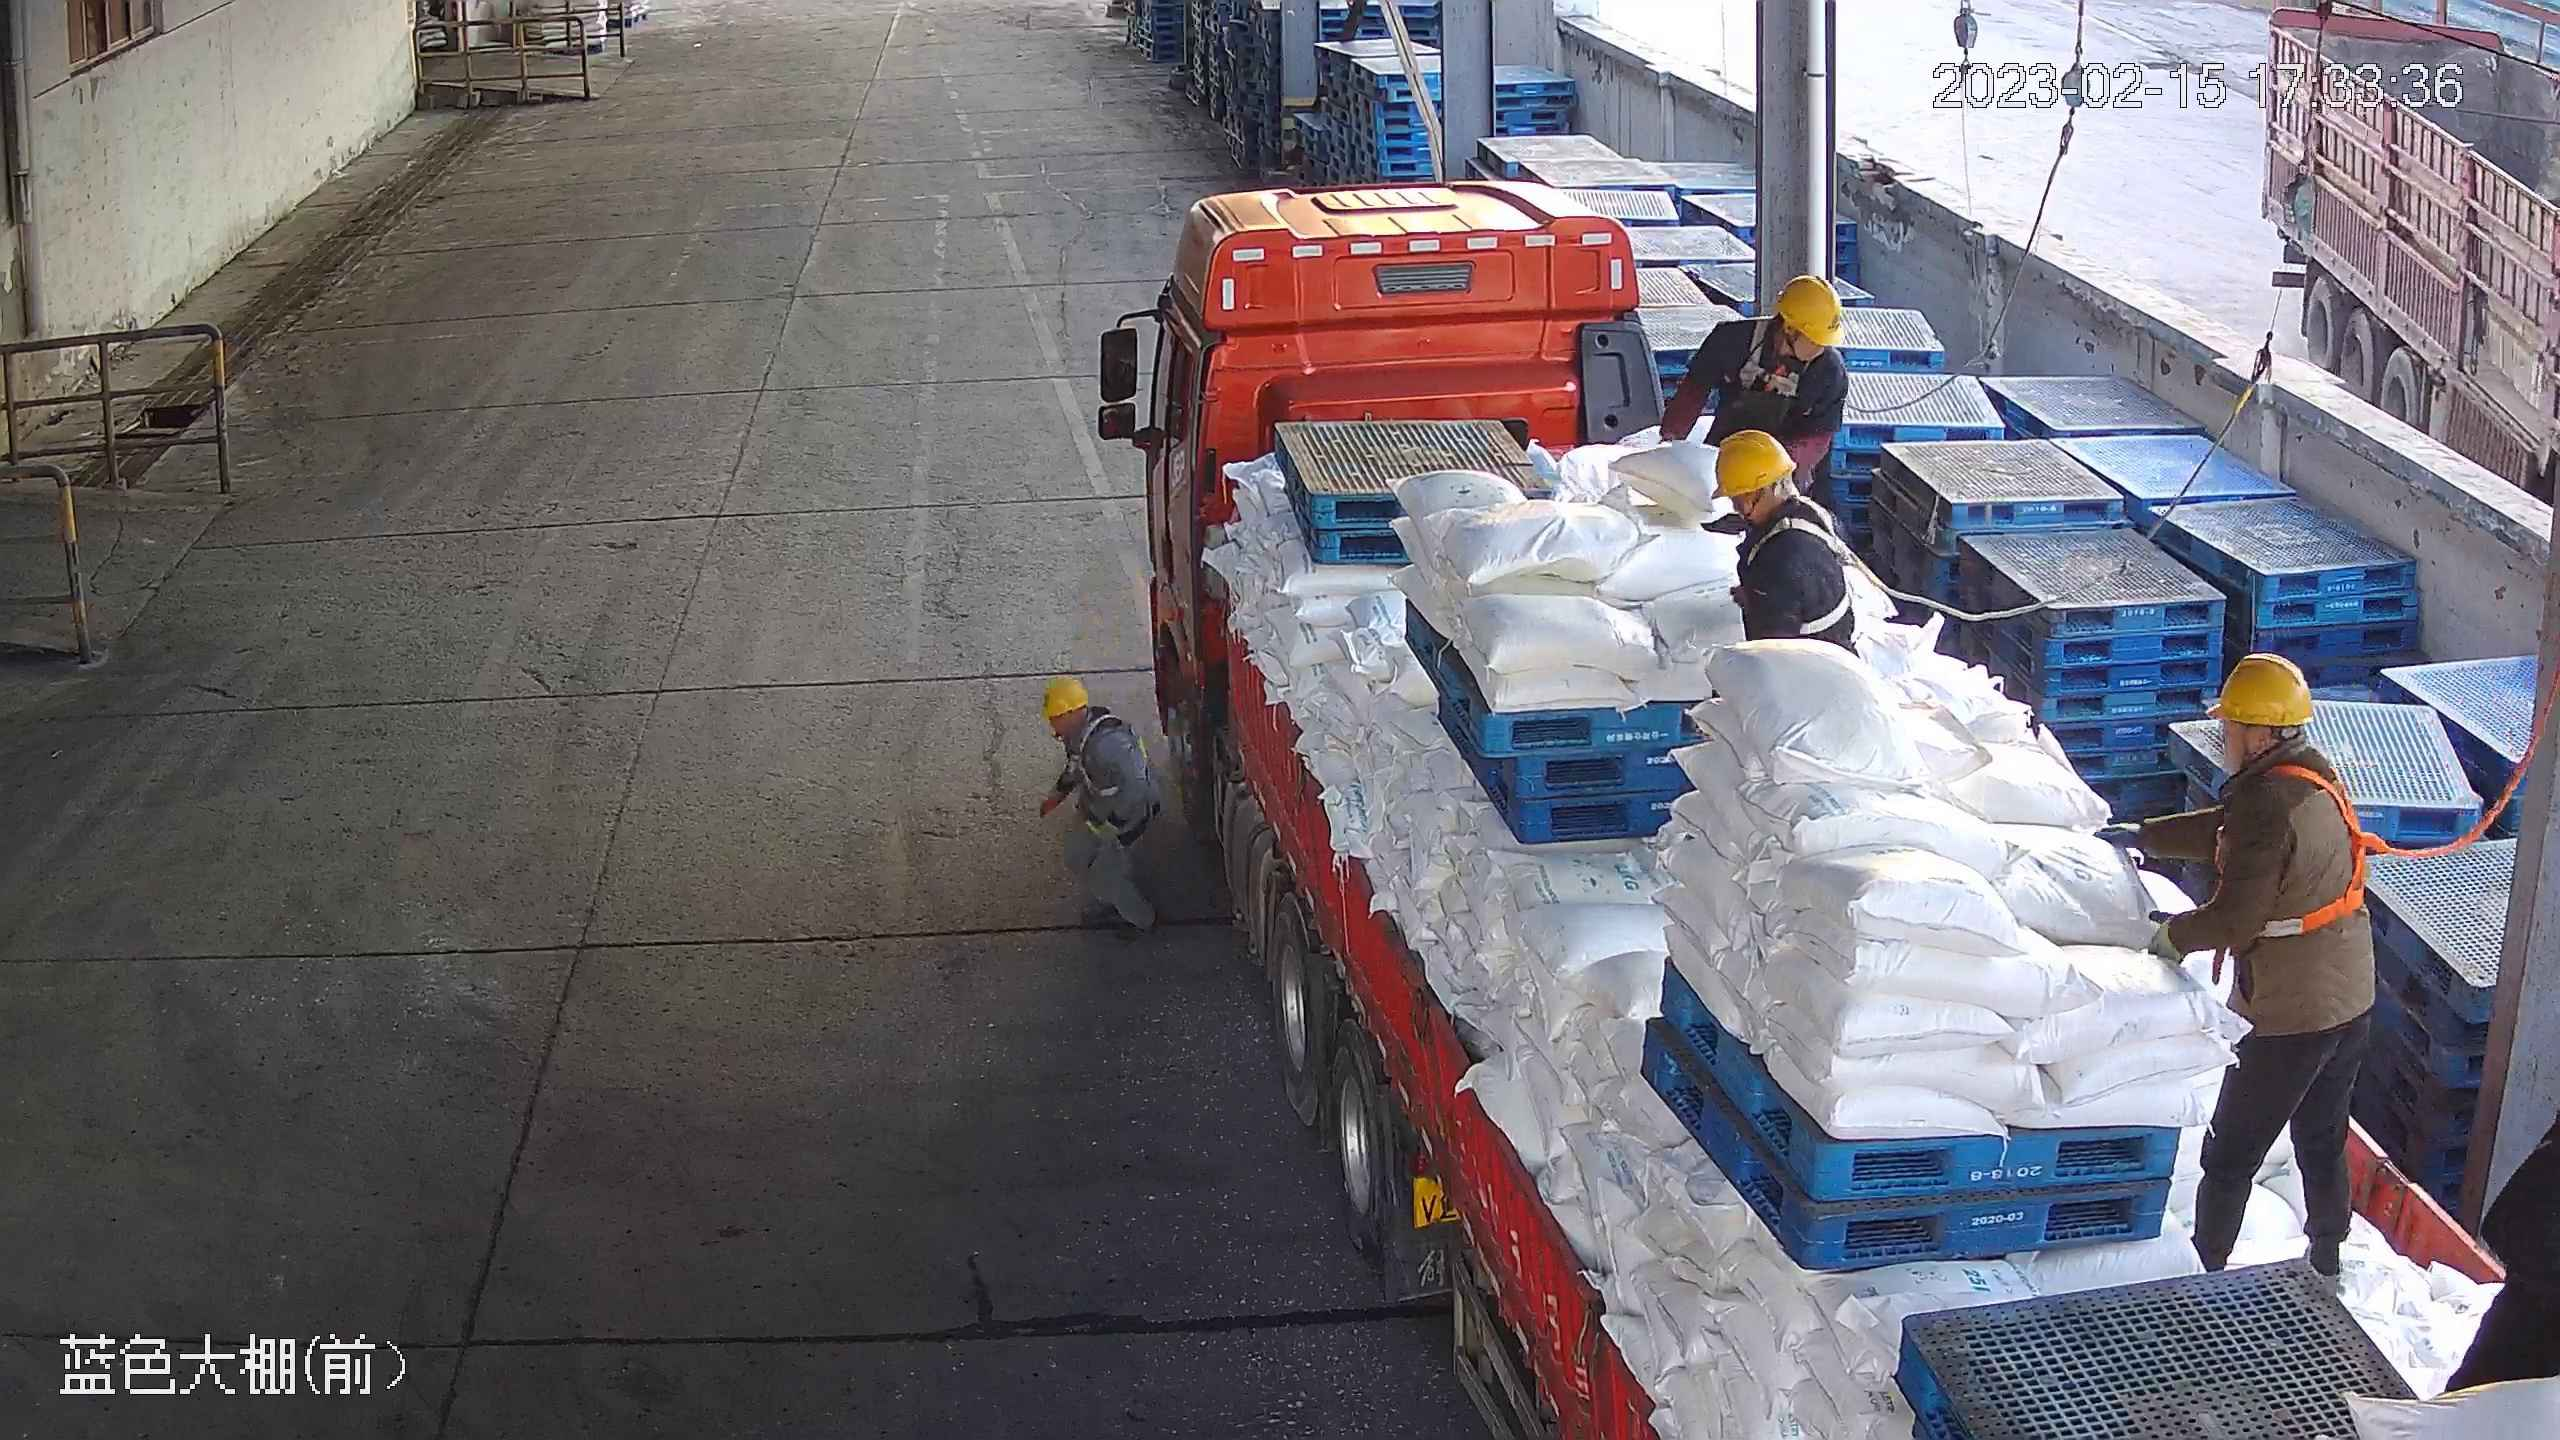belt: (2209, 762, 2389, 940), (1742, 493, 1880, 637), (1738, 313, 1820, 399), (1053, 714, 1134, 798)
head: (2195, 653, 2359, 837), (1703, 428, 1848, 574), (1708, 276, 1852, 386), (1042, 676, 1145, 755)
helmet: (2206, 651, 2317, 727), (1710, 428, 1800, 499), (1775, 276, 1847, 347), (1043, 676, 1089, 717)
people: (2090, 652, 2376, 1280), (1657, 276, 1851, 496), (1701, 428, 1863, 657), (1036, 675, 1163, 936)
truck: (1146, 180, 2560, 1440)
